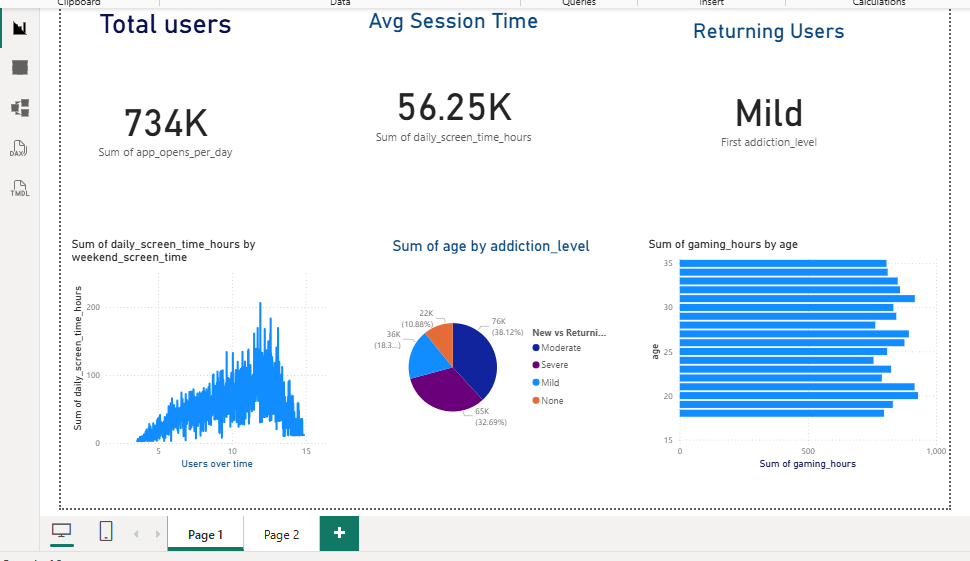

Layout of this report page (visuals, bound fields, positions):
{"tool":"powerbi","page":{"name":"Page 1","canvas":[1280,720],"ordinal":0},"visuals":[{"type":"card","title":"Total users","fields":{"Values":["Sum(Smartphone_Usage_And_Addiction_Analysis_7500_Rows.app_opens_per_day)"]},"box":[10.1,0,280.5,294],"z":0},{"type":"card","title":"Avg Session Time","fields":{"Values":["Sum(Smartphone_Usage_And_Addiction_Analysis_7500_Rows.daily_screen_time_hours)"]},"box":[375.8,0,378.7,257.8],"z":1},{"type":"card","title":"Returning Users","fields":{"Values":["Min(Smartphone_Usage_And_Addiction_Analysis_7500_Rows.addiction_level)"]},"box":[841,15.8,357.1,241.9],"z":2},{"type":"lineChart","fields":{"Category":["Smartphone_Usage_And_Addiction_Analysis_7500_Rows.weekend_screen_time"],"Y":["Sum(Smartphone_Usage_And_Addiction_Analysis_7500_Rows.daily_screen_time_hours)"]},"box":[10.1,329.8,378.7,339.8],"z":3},{"type":"pieChart","fields":{"Category":["Smartphone_Usage_And_Addiction_Analysis_7500_Rows.addiction_level"],"Y":["Sum(Smartphone_Usage_And_Addiction_Analysis_7500_Rows.age)"]},"box":[445,329.8,348.5,351.4],"z":4},{"type":"clusteredBarChart","fields":{"Y":["Sum(Smartphone_Usage_And_Addiction_Analysis_7500_Rows.gaming_hours)"],"Category":["Smartphone_Usage_And_Addiction_Analysis_7500_Rows.age"]},"box":[841,329.8,439.2,339.8],"z":5}]}

Visuals, with their boxes on the page's 1280x720 design canvas (x1, y1, x2, y2). These are canvas units, not pixel positions in the 970x561 screenshot, which may show the page scaled, cropped or inside an application window:
"Total users" card: bbox=(10, 0, 291, 294)
"Avg Session Time" card: bbox=(376, 0, 754, 258)
"Returning Users" card: bbox=(841, 16, 1198, 258)
lineChart - Smartphone_Usage_And_Addiction_Analysis_7500_Rows.weekend_screen_time x Sum(Smartphone_Usage_And_Addiction_Analysis_7500_Rows.daily_screen_time_hours): bbox=(10, 330, 389, 670)
pieChart - Smartphone_Usage_And_Addiction_Analysis_7500_Rows.addiction_level x Sum(Smartphone_Usage_And_Addiction_Analysis_7500_Rows.age): bbox=(445, 330, 794, 681)
clusteredBarChart - Sum(Smartphone_Usage_And_Addiction_Analysis_7500_Rows.gaming_hours) x Smartphone_Usage_And_Addiction_Analysis_7500_Rows.age: bbox=(841, 330, 1280, 670)
